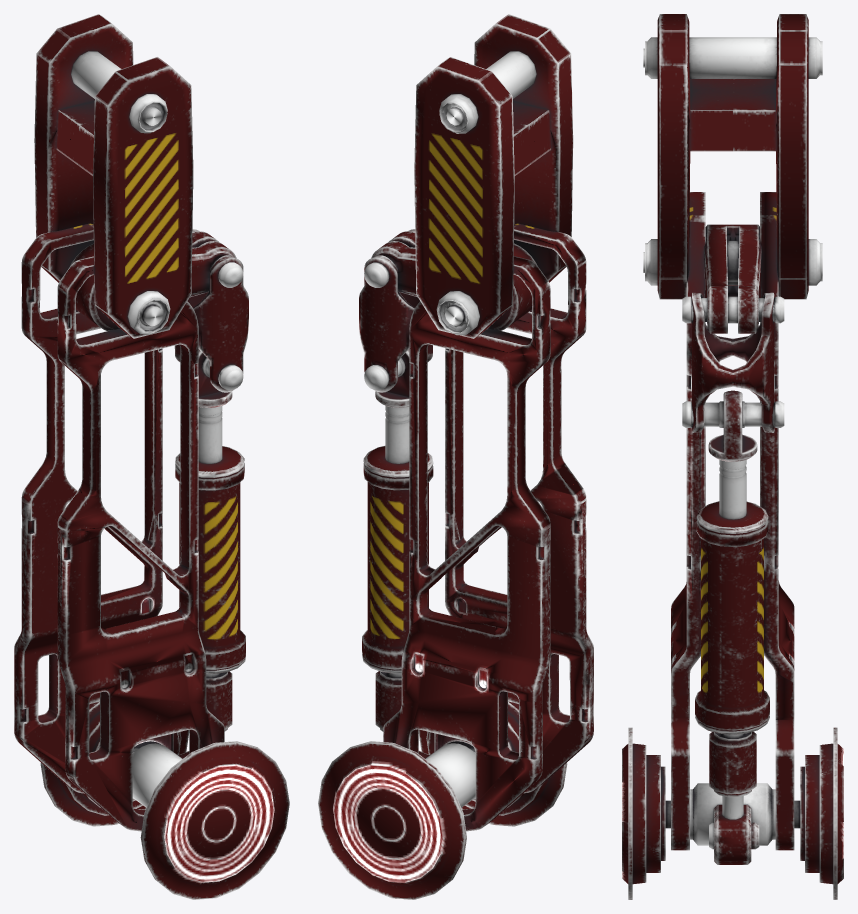
File: SM_add_7.fbx
3 renders of one model, left to right at view 1: azimuth 30°, elevation 25°; view 2: azimuth 150°, elevation 25°; view 3: azimuth 270°, elevation 25°, orthographic. The views are drawn at different scales.
Visible parts, largest first — view 1: SM_add_7_LOD0; view 2: SM_add_7_LOD0; view 3: SM_add_7_LOD0.
Boxes of the visible parts, x1=… form: SM_add_7_LOD0: x1=14, y1=14, x2=289, y2=899; SM_add_7_LOD0: x1=318, y1=14, x2=593, y2=899; SM_add_7_LOD0: x1=622, y1=14, x2=843, y2=899.
Size of the model in its own units: 26.34 by 24.43 by 103.
Materials: 1 (1 with a texture image).
